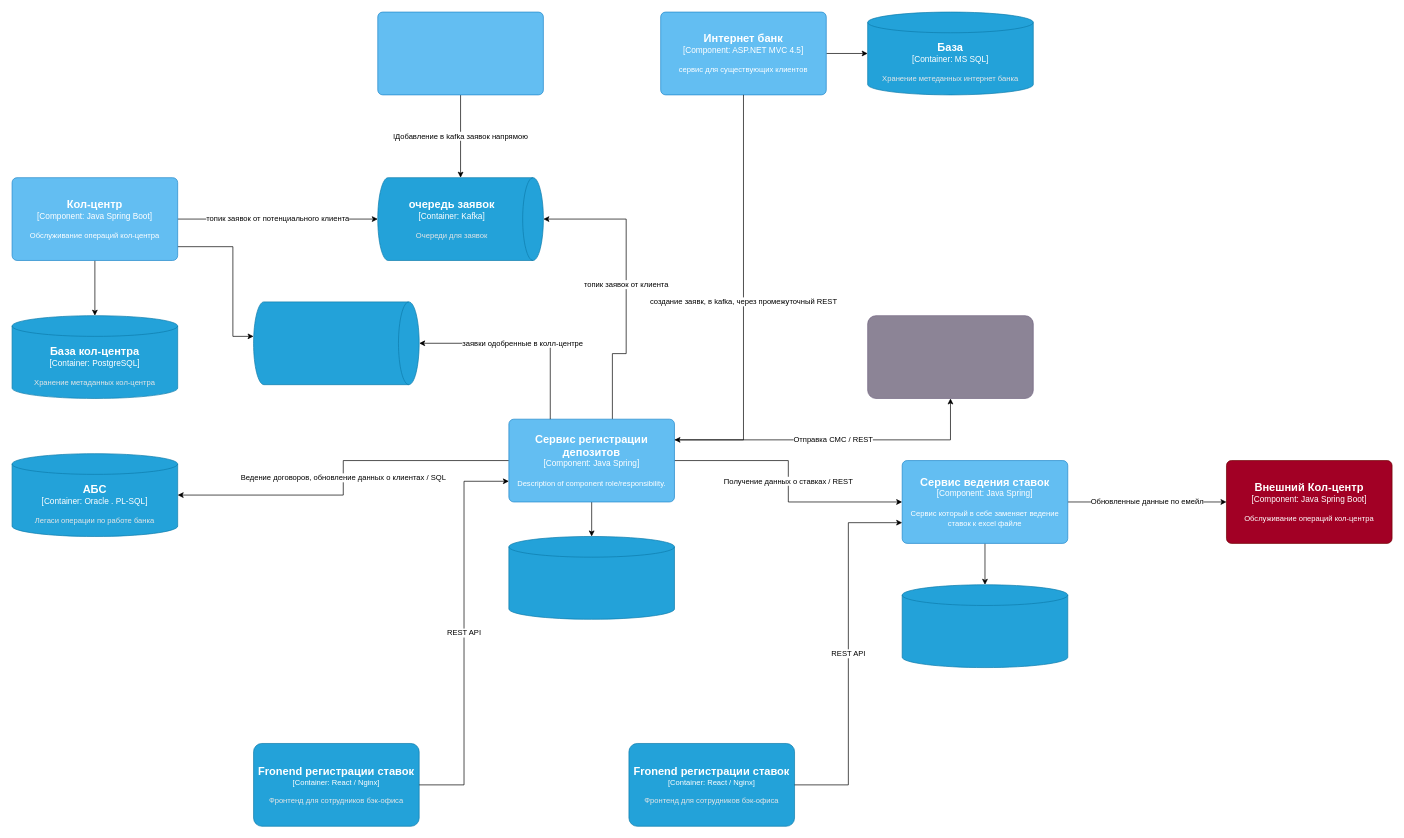
The diagram is 1404 pixels wide and 838 high, and some of its shapes have lost their labels. Here are the shapes that lost their labels. From the top down, the centre of each, then its label:
At (460,53): "Сайт [Component: PHP, React] Сайт для новых клиентов".
At (336,343): "Очередь на извещение [Container: Kafka] Передача заявок на одобрение".
At (950,356): "СМС-шлюз [Software System] Description of external software system.".
At (591,577): "База [Container: PostgreSQL] Хренение метаданных о депозитах, заявках".
At (984,626): "База [Container: PostgreSQL] Метаданные о ставках".
